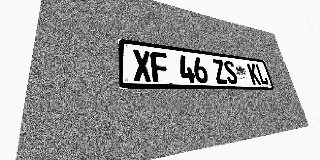4: (178, 54, 196, 83)
6: (191, 56, 209, 83)
F: (150, 51, 170, 82)
K: (247, 63, 261, 85)
L: (255, 64, 269, 85)
S: (223, 60, 238, 84)
X: (132, 49, 152, 82)
Z: (212, 59, 228, 84)
